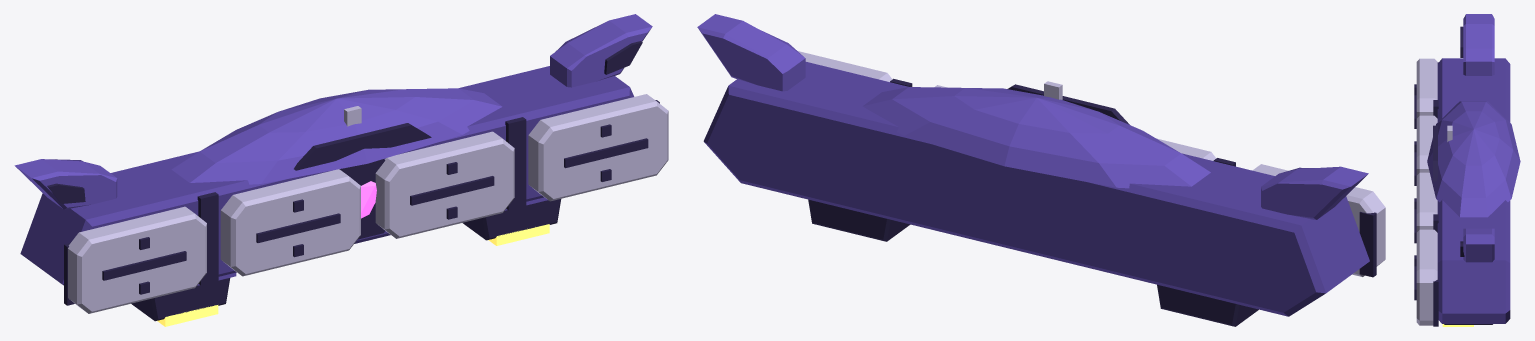
The model's file is brood_mother.glb.
3 renders of one model, left to right at view 1: azimuth 30°, elevation 25°; view 2: azimuth 150°, elevation 25°; view 3: azimuth 270°, elevation 25°, orthographic. The views are drawn at different scales.
Parts seen in each view (by area): view 1: hull, dome, plate_3, plate_1, plate_2, plate_0, wing_R, wing_L, bay_R, bay_L, bay_glow_L, bay_glow_R (+1 smaller); view 2: hull, dome, wing_R, wing_L, bay_R, bay_L, plate_0, plate_3; view 3: hull, dome, wing_L, plate_3, plate_0, plate_2, wing_R, plate_1.
Boxes of the visible parts, <box> form: hull: <box>20,66,659,305</box>; dome: <box>171,88,502,184</box>; plate_3: <box>528,94,668,201</box>; plate_1: <box>220,169,360,276</box>; plate_2: <box>375,131,514,238</box>; plate_0: <box>68,206,206,313</box>; wing_R: <box>550,14,652,87</box>; wing_L: <box>14,159,117,209</box>; bay_R: <box>463,197,561,240</box>; bay_L: <box>131,272,236,321</box>; bay_glow_L: <box>157,305,218,326</box>; bay_glow_R: <box>488,224,549,245</box>; hull: <box>703,62,1376,316</box>; dome: <box>862,81,1210,188</box>; wing_R: <box>697,14,805,91</box>; wing_L: <box>1261,166,1368,219</box>; bay_R: <box>808,199,910,241</box>; bay_L: <box>1157,284,1258,326</box>; plate_0: <box>1252,164,1385,276</box>; plate_3: <box>798,51,892,81</box>; hull: <box>1433,58,1510,326</box>; dome: <box>1427,101,1520,217</box>; wing_L: <box>1460,14,1494,75</box>; plate_3: <box>1414,229,1437,325</box>; plate_0: <box>1414,58,1437,128</box>; plate_2: <box>1414,172,1437,243</box>; wing_R: <box>1460,228,1494,262</box>; plate_1: <box>1414,115,1437,185</box>.
Size of the model in its own units: 105 by 27.1 by 20.45.
